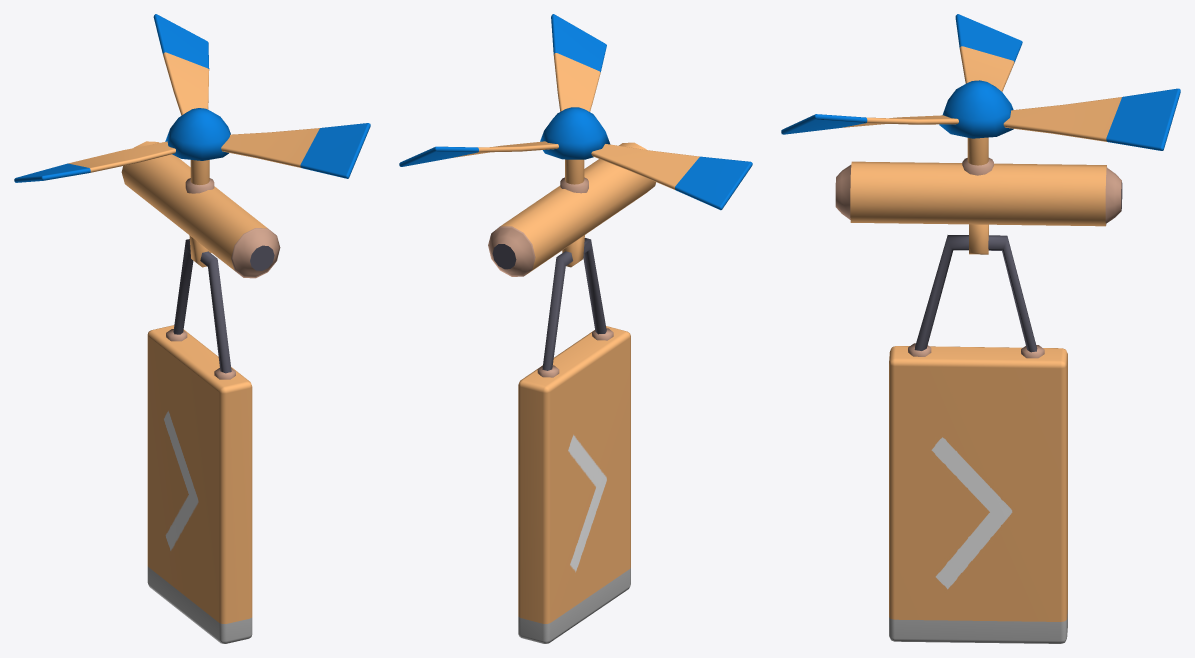
Rendered from DCR0110003.fbx.
3 renders of one model, left to right at view 1: azimuth 30°, elevation 25°; view 2: azimuth 150°, elevation 25°; view 3: azimuth 270°, elevation 25°, orthographic. The views are drawn at different scales.
Parts seen in each view (by area): view 1: smDCR0110003; view 2: smDCR0110003; view 3: smDCR0110003.
Part boxes in pixels (x1=…): smDCR0110003: x1=14, y1=14, x2=370, y2=643; smDCR0110003: x1=399, y1=14, x2=752, y2=643; smDCR0110003: x1=781, y1=14, x2=1180, y2=643.
Bounding box in the file's own units: 223 × 420 × 265.
Materials: 1 (1 with a texture image).
